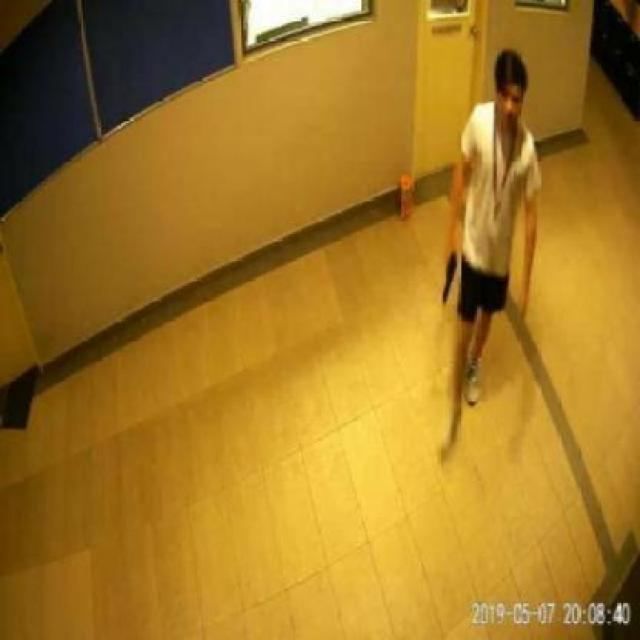gun: (440, 248, 454, 306)
